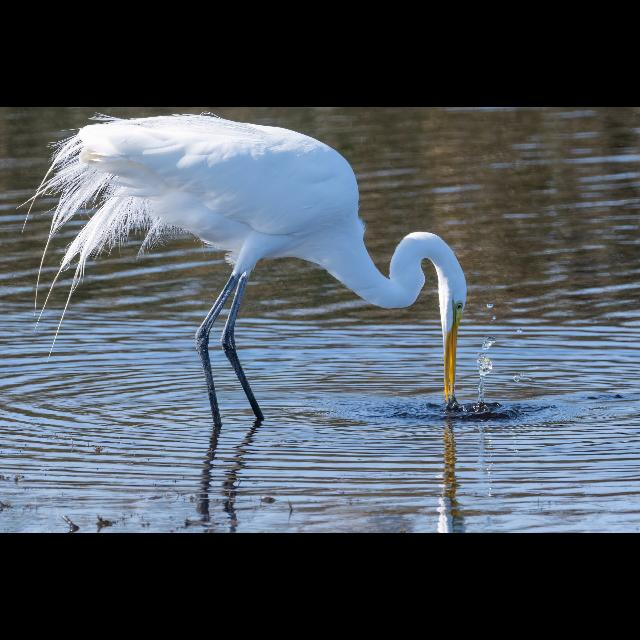egret: (25, 110, 487, 414)
